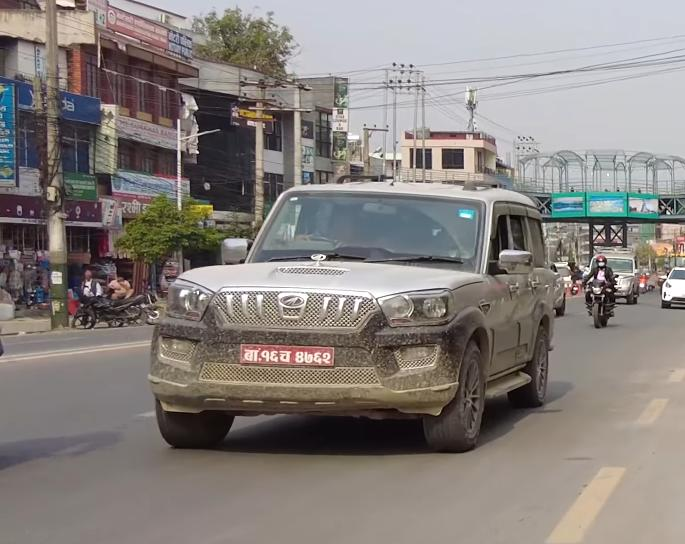SUV: (138, 163, 584, 461)
bike: (579, 272, 619, 333)
car: (658, 264, 685, 313)
